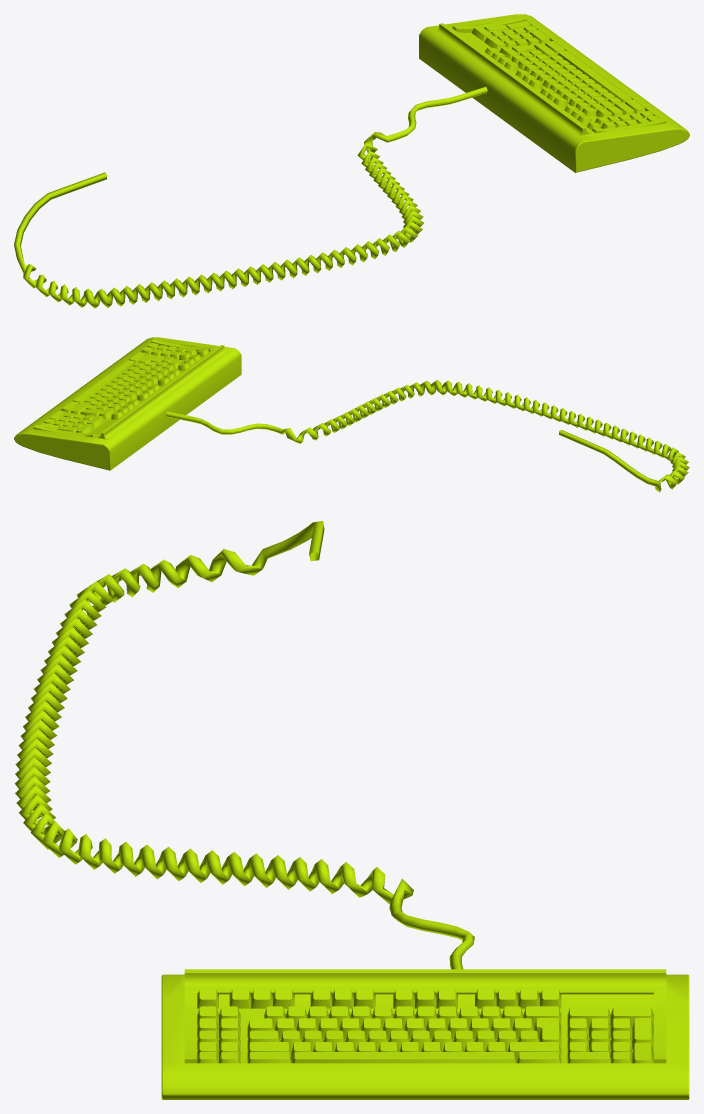
File: computerKeyboard-model.fbx
3 views of the same model, one above another, from view 1: azimuth 30°, elevation 25°; view 2: azimuth 150°, elevation 25°; view 3: azimuth 270°, elevation 25° (orthographic). The views are drawn at different scales.
Parts seen in each view (by area): view 1: keyboard, keyboard cable, keyboard backtray, key spacebar; view 2: keyboard, keyboard cable, keyboard backtray, key spacebar; view 3: keyboard, keyboard cable, keyboard backtray, key spacebar.
Boxes of the visible parts, x1=… form: keyboard: x1=419, y1=14, x2=689, y2=172; keyboard cable: x1=14, y1=86, x2=487, y2=308; keyboard backtray: x1=452, y1=16, x2=666, y2=133; key spacebar: x1=558, y1=50, x2=631, y2=103; keyboard: x1=14, y1=337, x2=241, y2=470; keyboard cable: x1=165, y1=379, x2=689, y2=492; keyboard backtray: x1=33, y1=339, x2=213, y2=437; key spacebar: x1=73, y1=360, x2=135, y2=404; keyboard: x1=161, y1=969, x2=689, y2=1099; keyboard cable: x1=14, y1=521, x2=474, y2=969; keyboard backtray: x1=184, y1=989, x2=666, y2=1063; key spacebar: x1=292, y1=1052, x2=516, y2=1063.
Bounding box in the file's own units: 0.8512 × 0.0889 × 0.4553.
